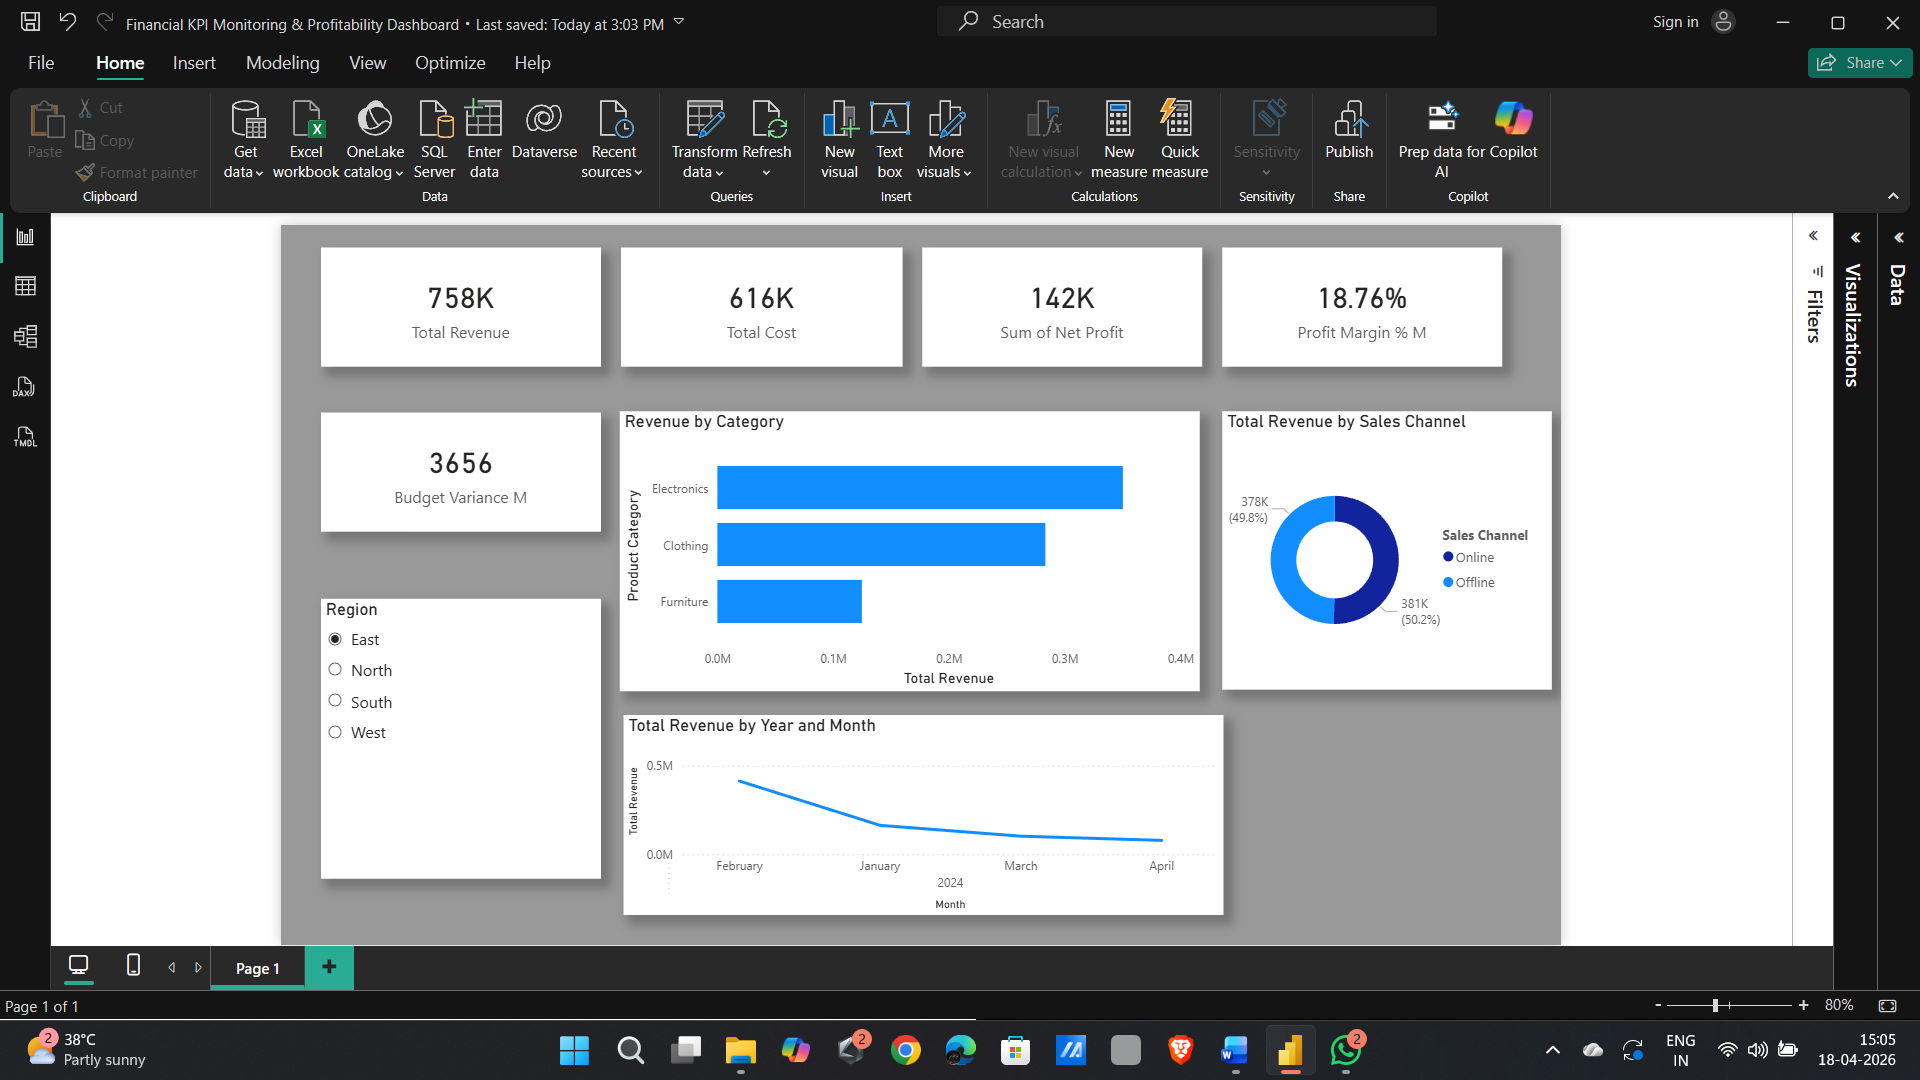

Layout of this report page (visuals, bound fields, positions):
{"tool":"powerbi","page":{"name":"Page 1","canvas":[1280,720],"ordinal":0},"visuals":[{"type":"clusteredBarChart","title":" Revenue by  Category","fields":{"Category":["Financial_Data.Product Category"],"Y":["Financial_Data.Total Revenue"]},"box":[338.9,186.6,580,279.9],"z":0},{"type":"lineChart","fields":{"Y":["Financial_Data.Total Revenue"],"Category":["Financial_Data.Year","Financial_Data.Month"]},"box":[343.1,489.9,599.7,200.3],"z":1000},{"type":"donutChart","fields":{"Category":["Financial_Data.Sales Channel","Financial_Data.Region"],"Y":["Financial_Data.Total Revenue"]},"box":[941.3,186.6,329.3,278.6],"z":2000},{"type":"listSlicer","fields":{"Values":["Financial_Data.Region"]},"box":[39.8,373.2,279.9,279.9],"z":3000},{"type":"card","fields":{"Values":["Financial_Data.Total Revenue"]},"box":[40.1,23.1,279.9,119.4],"z":4000},{"type":"card","fields":{"Values":["Financial_Data.Total Cost"]},"box":[340.1,23.1,281.3,119.4],"z":5000},{"type":"card","fields":{"Values":["Sum(Financial_Data.Net Profit)"]},"box":[641.6,23.1,279.9,119.4],"z":6000},{"type":"card","fields":{"Values":["Financial_Data.Profit Margin % M"]},"box":[941.6,23.1,279.9,119.4],"z":7000},{"type":"card","fields":{"Values":["Financial_Data.Budget Variance M"]},"box":[39.8,188,279.9,119.4],"z":8000}]}

Visuals, with their boxes on the page's 1280x720 design canvas (x1, y1, x2, y2). These are canvas units, not pixel positions in the 1920x1080 screenshot, which may show the page scaled, cropped or inside an application window:
" Revenue by  Category" clusteredBarChart: box=[339, 187, 919, 466]
lineChart - Financial_Data.Total Revenue x Financial_Data.Year: box=[343, 490, 943, 690]
donutChart - Financial_Data.Sales Channel x Financial_Data.Region: box=[941, 187, 1271, 465]
listSlicer - Financial_Data.Region: box=[40, 373, 320, 653]
card - Financial_Data.Total Revenue: box=[40, 23, 320, 142]
card - Financial_Data.Total Cost: box=[340, 23, 621, 142]
card - Sum(Financial_Data.Net Profit): box=[642, 23, 922, 142]
card - Financial_Data.Profit Margin % M: box=[942, 23, 1222, 142]
card - Financial_Data.Budget Variance M: box=[40, 188, 320, 307]
